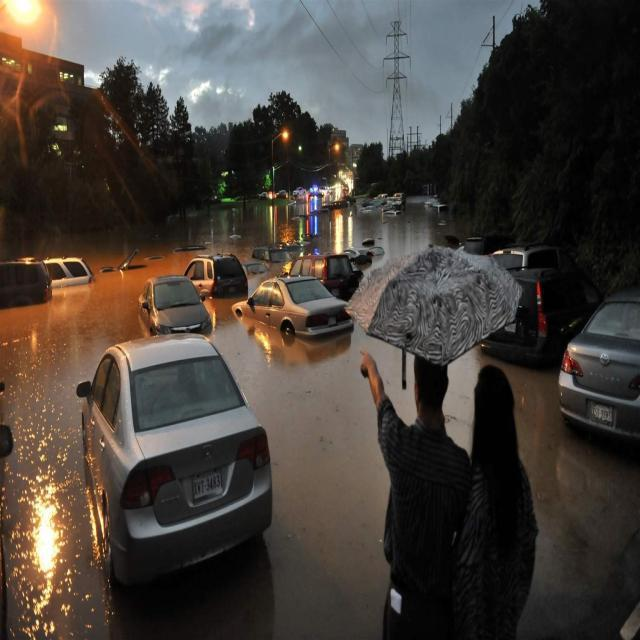water: (4, 206, 254, 637), (127, 297, 415, 637), (447, 348, 636, 638), (229, 197, 447, 272)
